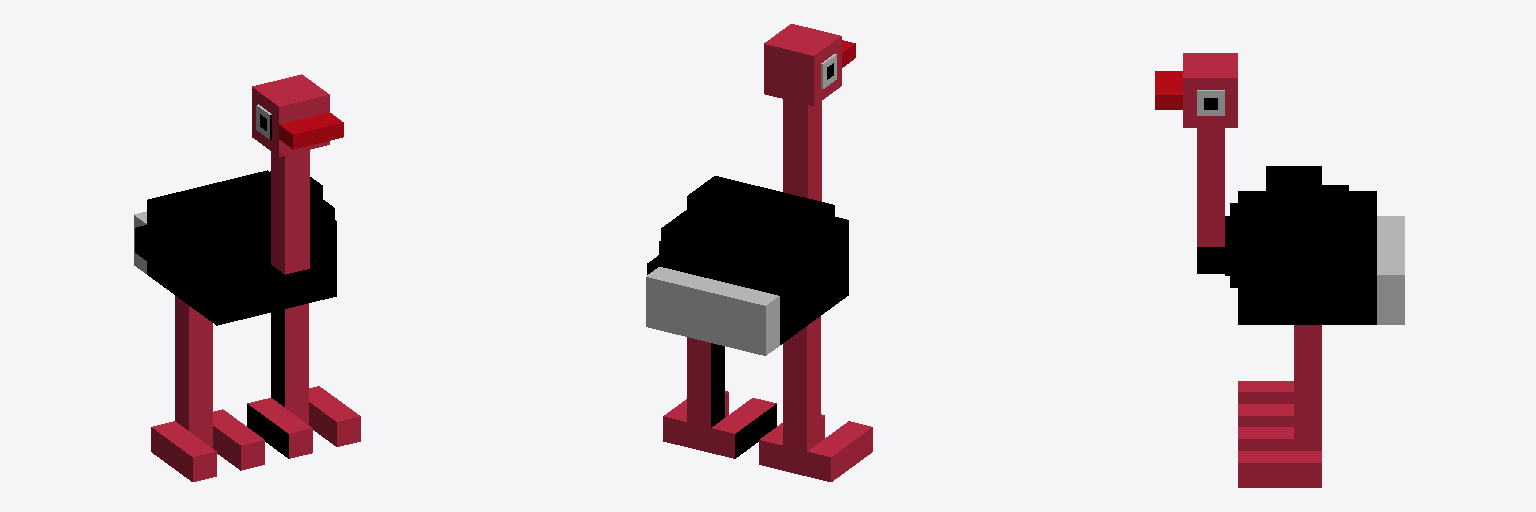
The model's file is ostrich.obj.
3 views of the same model, side by side, from view 1: azimuth 30°, elevation 25°; view 2: azimuth 150°, elevation 25°; view 3: azimuth 270°, elevation 25° (orthographic).
Parts seen in each view (by area): view 1: Cube; view 2: Cube; view 3: Cube.
Boxes of the visible parts, <box> form: Cube: <box>134,74,360,481</box>; Cube: <box>646,24,872,481</box>; Cube: <box>1155,53,1404,487</box>.
Bounding box in the file's own units: 7 × 15.18 × 9.